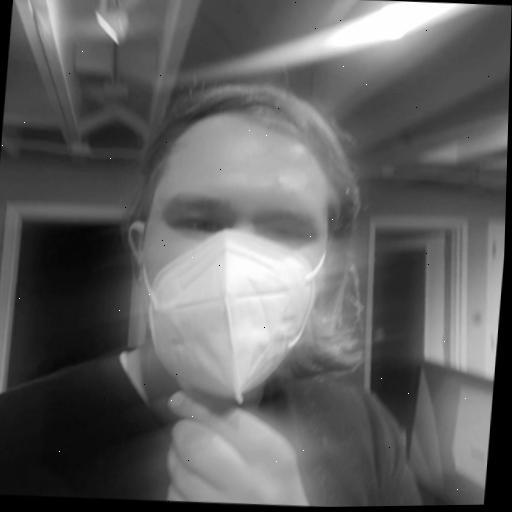mask: (113, 76, 402, 415)
